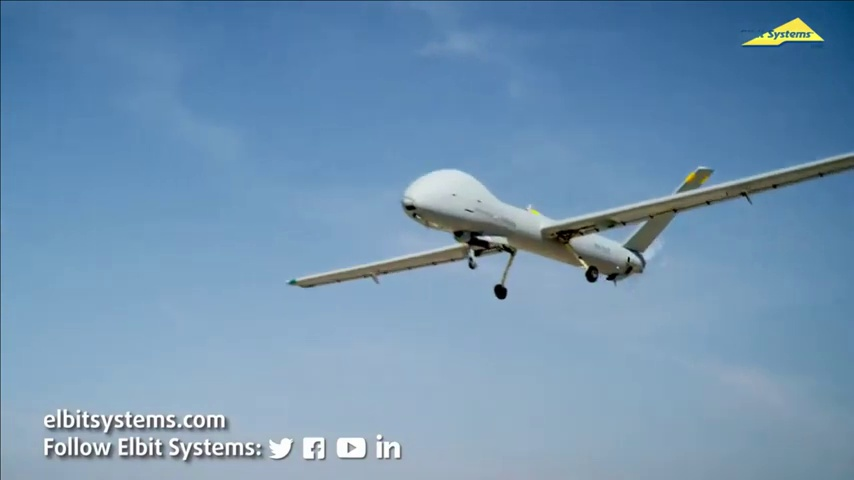military drone: (285, 152, 854, 299)
